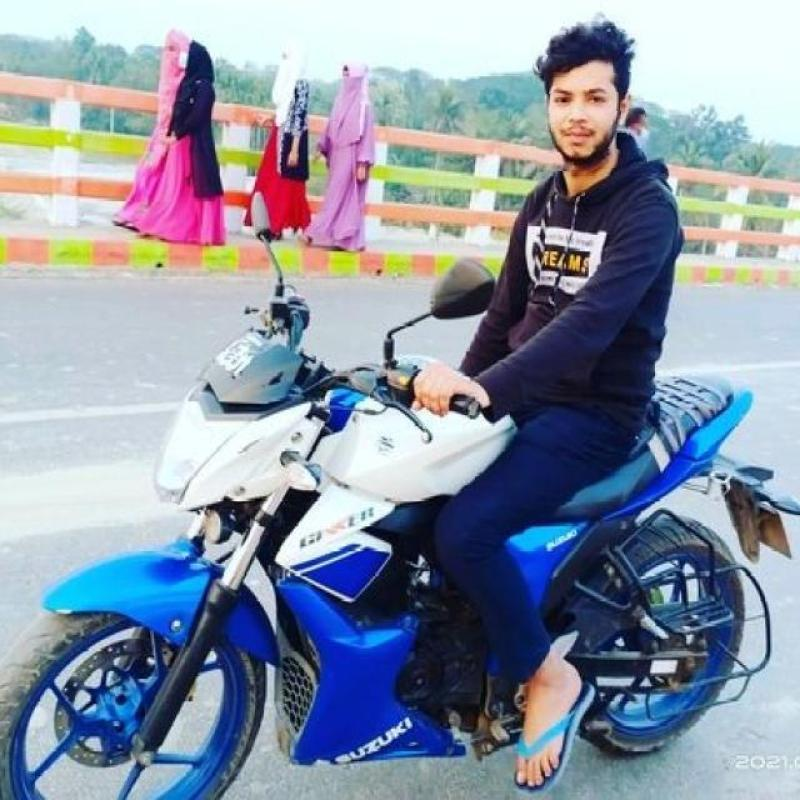nohelmet: (532, 33, 646, 171)
